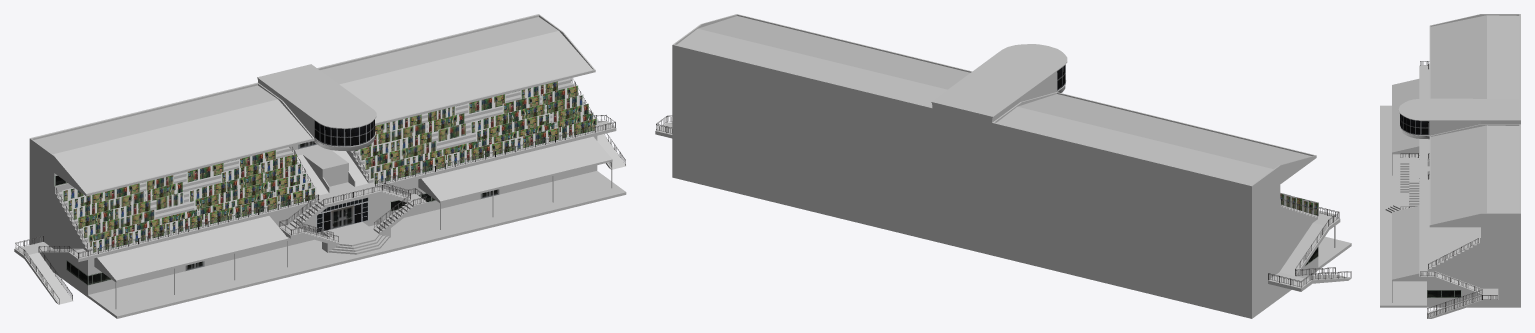
The model's file is Stand-05.fbx.
The picture shows the model from 3 angles, left to right: view 1: azimuth 30°, elevation 25°; view 2: azimuth 150°, elevation 25°; view 3: azimuth 270°, elevation 25°; orthographic projection. The views are drawn at different scales.
Parts seen in each view (by area): view 1: Stand-05, Audience; view 2: Stand-05, Audience; view 3: Stand-05.
Boxes of the visible parts, x1,y1,x2,y2 form: Stand-05: (14,14,626,318); Audience: (62,81,597,253); Stand-05: (655,14,1351,318); Audience: (1280,193,1318,216); Stand-05: (1380,14,1520,318).
Bounding box in the file's own units: 8916 × 1831 × 2384.
